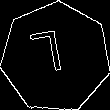L_S: (36, 29, 75, 85)
